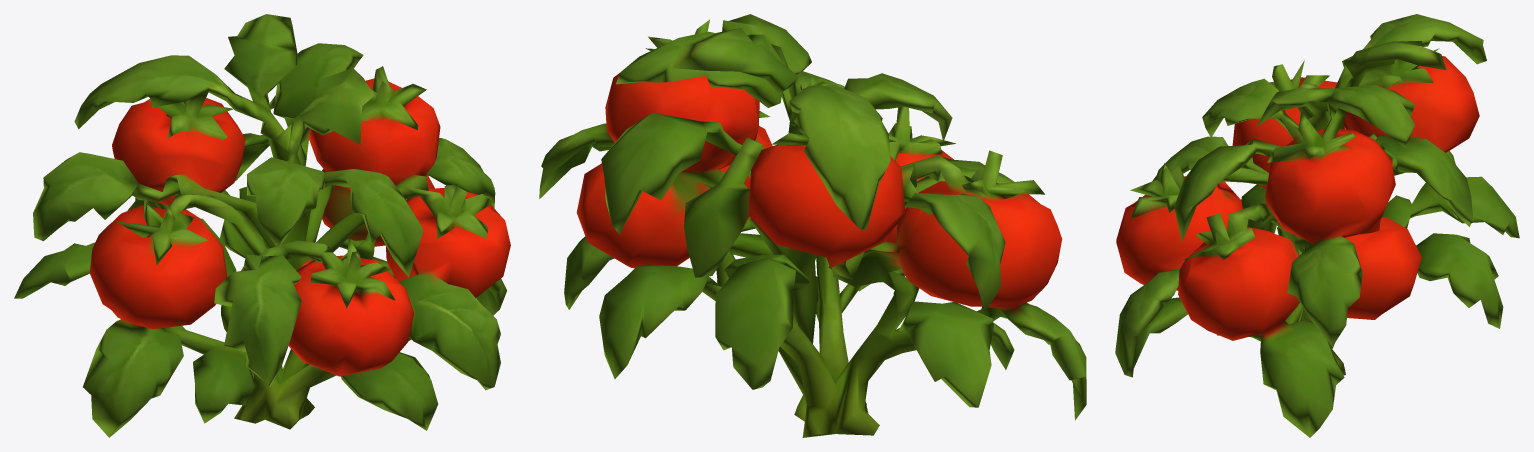
Rendered from crop-tomato.glb.
3 renders of one model, left to right at view 1: azimuth 30°, elevation 25°; view 2: azimuth 150°, elevation 25°; view 3: azimuth 270°, elevation 25°, orthographic. The views are drawn at different scales.
Visible parts, largest first — view 1: tripo_node_03b1db68-b901-43e9-93c0-eb4b077e777e; view 2: tripo_node_03b1db68-b901-43e9-93c0-eb4b077e777e; view 3: tripo_node_03b1db68-b901-43e9-93c0-eb4b077e777e.
Part boxes in pixels (bbox=[...]): tripo_node_03b1db68-b901-43e9-93c0-eb4b077e777e: bbox=[14, 14, 510, 437]; tripo_node_03b1db68-b901-43e9-93c0-eb4b077e777e: bbox=[539, 14, 1086, 437]; tripo_node_03b1db68-b901-43e9-93c0-eb4b077e777e: bbox=[1115, 14, 1519, 437].
Size of the model in its own units: 1 by 0.7637 by 0.7998.
Materials: 1 (1 with a texture image).
